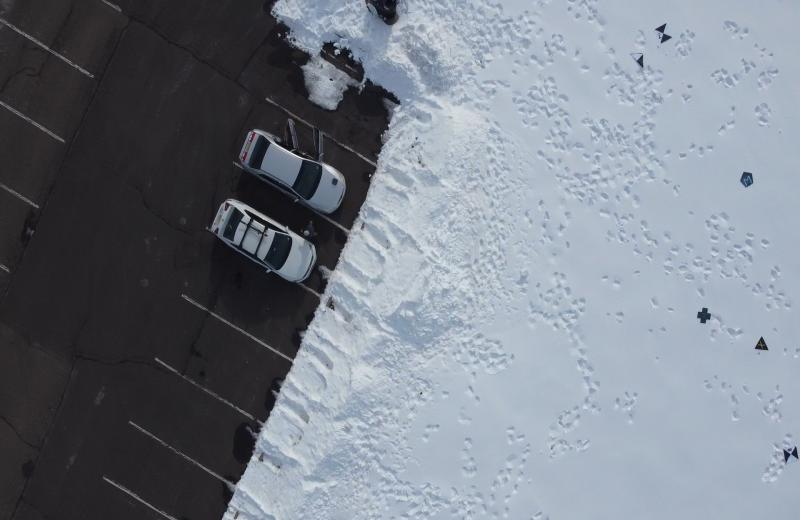Cross: (695, 306, 713, 325)
Pentagon: (738, 169, 754, 188)
Triangle: (754, 335, 769, 352)
